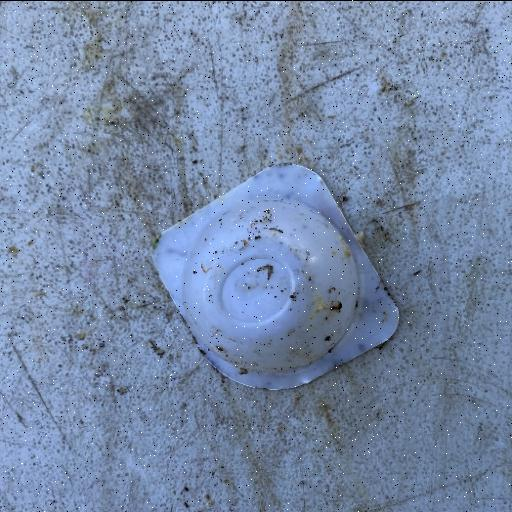Plastic: (150, 160, 402, 392)
